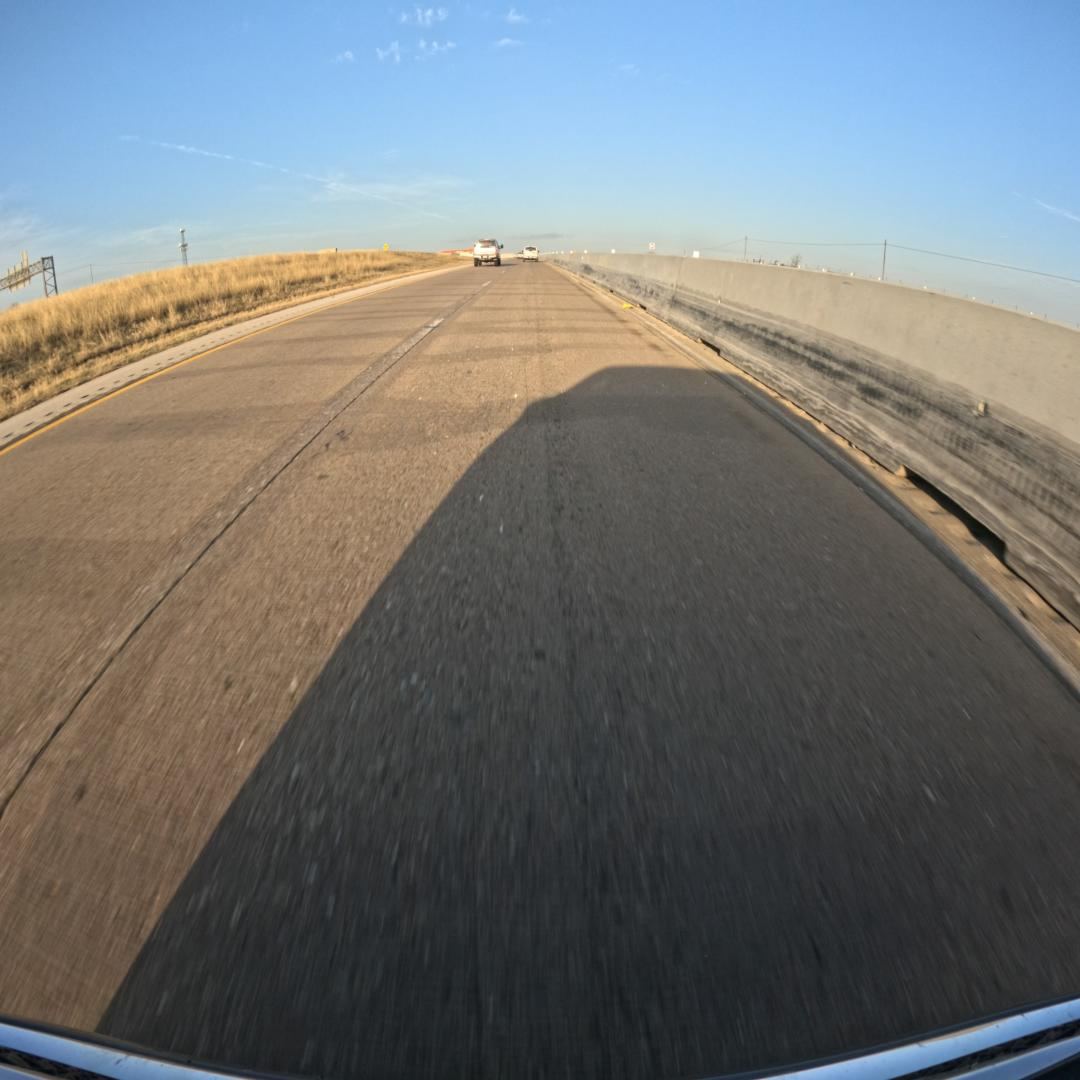lane0: (0, 266, 1080, 1076)
lane1: (0, 266, 512, 814)
